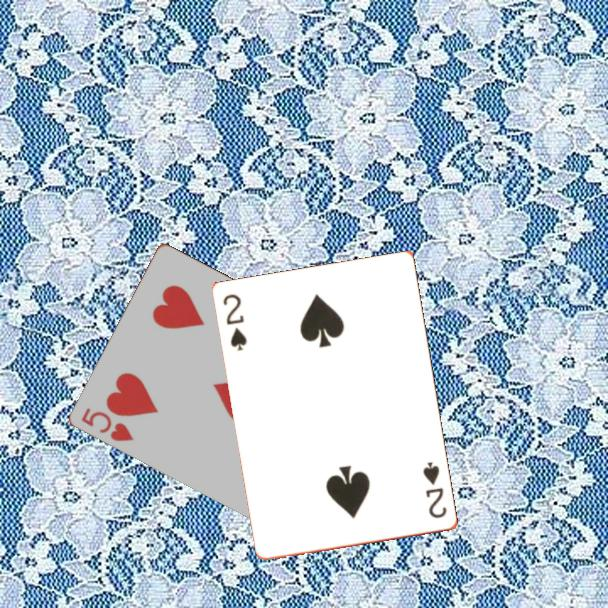h05: (78, 404, 137, 444)
s02: (420, 458, 450, 522), (220, 290, 250, 354)
